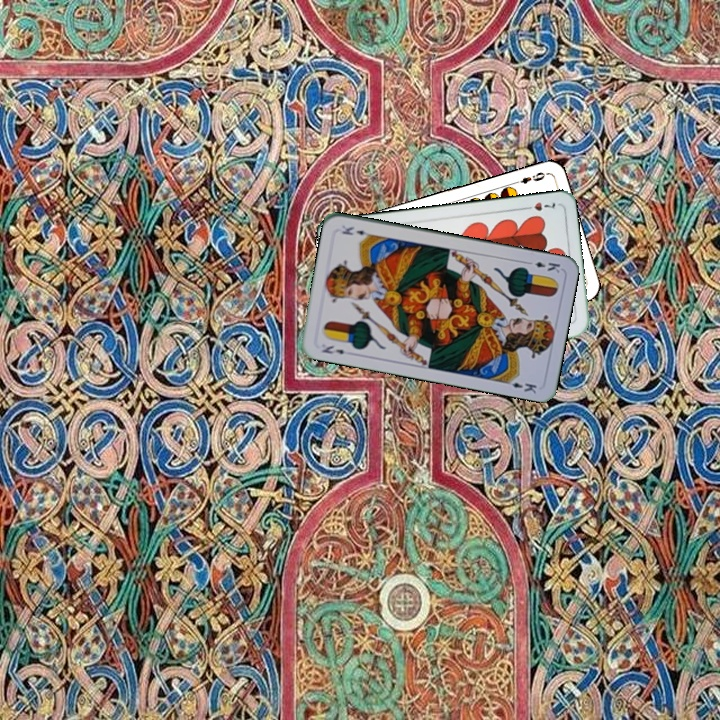E9: (510, 168, 548, 187)
EK: (522, 258, 563, 276), (318, 341, 347, 357)
H7: (519, 198, 558, 213)
